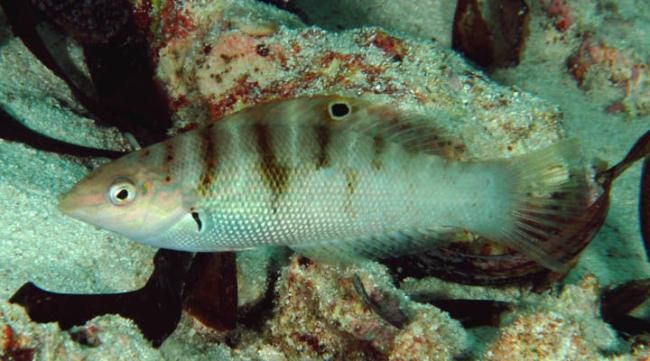fish: (58, 94, 588, 272)
